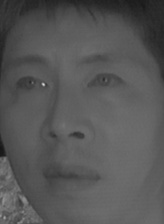eye: (85, 71, 126, 96), (13, 74, 51, 98)
mouth: (35, 158, 105, 196)
